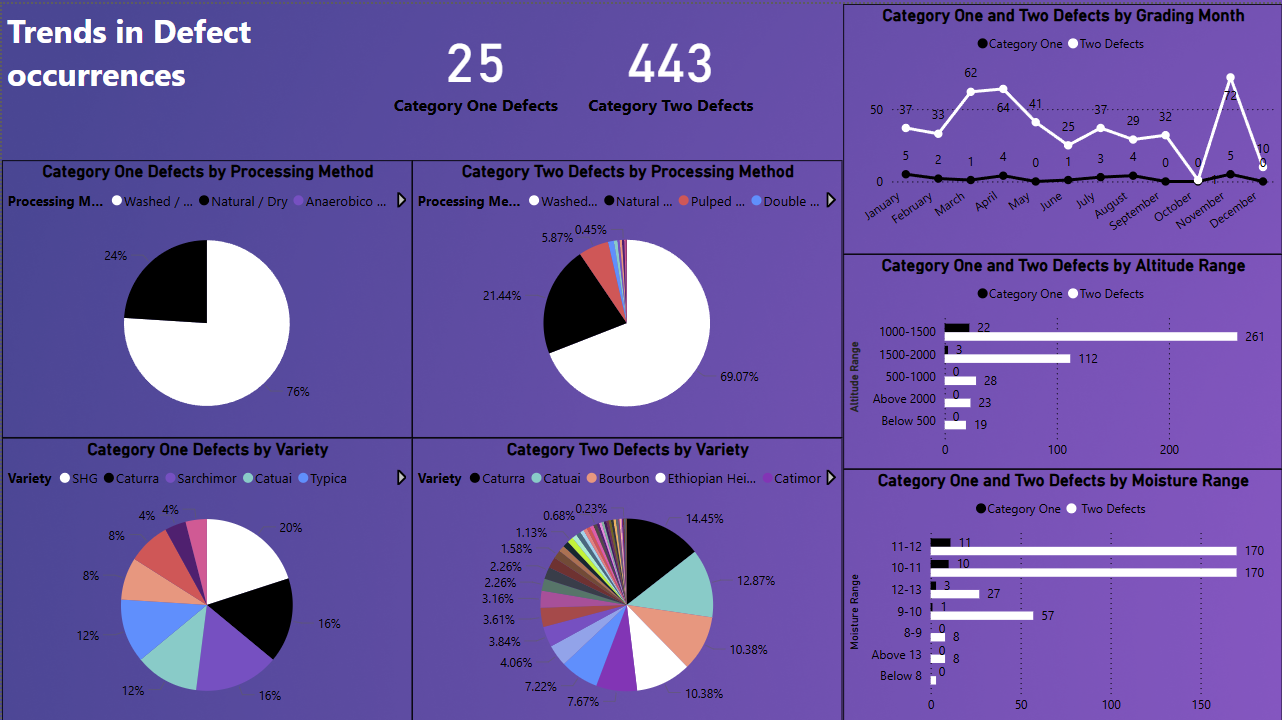

The page's visual inventory and layout, read from the dashboard file:
{"tool":"powerbi","page":{"name":"Page 3","canvas":[1280,720],"ordinal":3},"visuals":[{"type":"card","fields":{"Values":["Sum(Coffee.Category One Defects)"]},"box":[386.9,0,175.4,125.6],"z":0},{"type":"card","fields":{"Values":["Sum(Coffee.Category Two Defects)"]},"box":[580.9,0,175.4,125.6],"z":1000},{"type":"lineChart","fields":{"Y":["Sum(Coffee.Category One Defects)","Sum(Coffee.Category Two Defects)"],"Category":["Coffee (2).Grading Month"]},"box":[840.9,0,439.1,250],"z":2000},{"type":"clusteredBarChart","fields":{"Category":["Coffee.Altitude Range"],"Y":["Sum(Coffee.Category One Defects)","Sum(Coffee.Category Two Defects)"]},"box":[840.9,250,439.1,215.2],"z":3000},{"type":"clusteredBarChart","fields":{"Category":["Coffee.Moisture Range"],"Y":["Sum(Coffee.Category One Defects)","Sum(Coffee.Category Two Defects)"]},"box":[840.9,465.2,439.1,255],"z":4000},{"type":"pieChart","fields":{"Category":["Coffee.Processing Method"],"Y":["Sum(Coffee.Category One Defects)"]},"box":[0,156.7,410.5,277.4],"z":5000},{"type":"pieChart","fields":{"Y":["Sum(Coffee.Category Two Defects)"],"Category":["Coffee.Processing Method"]},"box":[410.5,156.7,430.4,277.4],"z":6000},{"type":"pieChart","fields":{"Category":["Coffee.Variety"],"Y":["Sum(Coffee.Category One Defects)"]},"box":[0,434.1,410.5,286.1],"z":7000},{"type":"pieChart","fields":{"Y":["Sum(Coffee.Category Two Defects)"],"Category":["Coffee.Variety"]},"box":[410.5,434.1,430.4,286.1],"z":8000},{"type":"textbox","box":[0,0,410.5,156.7],"z":9000}]}

Visuals, with their boxes in screenshot pixels (x1, y1, x2, y2), scaled from the page's 1280x720 canvas onto the 1282x720 screenshot:
card - Sum(Coffee.Category One Defects): pyautogui.locateOnScreen(388, 0, 563, 126)
card - Sum(Coffee.Category Two Defects): pyautogui.locateOnScreen(582, 0, 757, 126)
lineChart - Sum(Coffee.Category One Defects) x Sum(Coffee.Category Two Defects): pyautogui.locateOnScreen(842, 0, 1281, 250)
clusteredBarChart - Coffee.Altitude Range x Sum(Coffee.Category One Defects): pyautogui.locateOnScreen(842, 250, 1281, 465)
clusteredBarChart - Coffee.Moisture Range x Sum(Coffee.Category One Defects): pyautogui.locateOnScreen(842, 465, 1281, 719)
pieChart - Coffee.Processing Method x Sum(Coffee.Category One Defects): pyautogui.locateOnScreen(0, 157, 411, 434)
pieChart - Sum(Coffee.Category Two Defects) x Coffee.Processing Method: pyautogui.locateOnScreen(411, 157, 842, 434)
pieChart - Coffee.Variety x Sum(Coffee.Category One Defects): pyautogui.locateOnScreen(0, 434, 411, 719)
pieChart - Sum(Coffee.Category Two Defects) x Coffee.Variety: pyautogui.locateOnScreen(411, 434, 842, 719)
textbox: pyautogui.locateOnScreen(0, 0, 411, 157)
